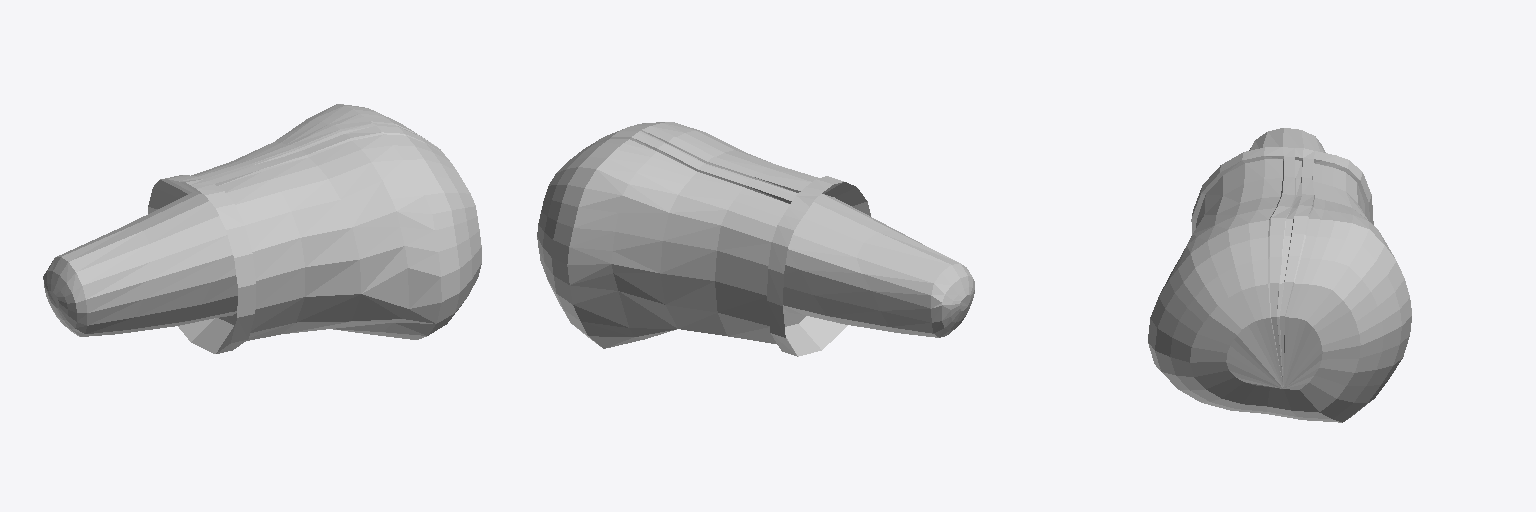
Rendered from 03_armUP_R.obj.
3 views of the same model, side by side, from view 1: azimuth 30°, elevation 25°; view 2: azimuth 150°, elevation 25°; view 3: azimuth 270°, elevation 25° (orthographic).
Parts seen in each view (by area): view 1: armUP_R; view 2: armUP_R; view 3: armUP_R.
Part boxes in pixels (x1,y1,x2,y2): armUP_R: (43, 104, 481, 353); armUP_R: (537, 122, 974, 356); armUP_R: (1148, 128, 1411, 422).
Size of the model in its own units: 2.47 by 1.17 by 1.41.